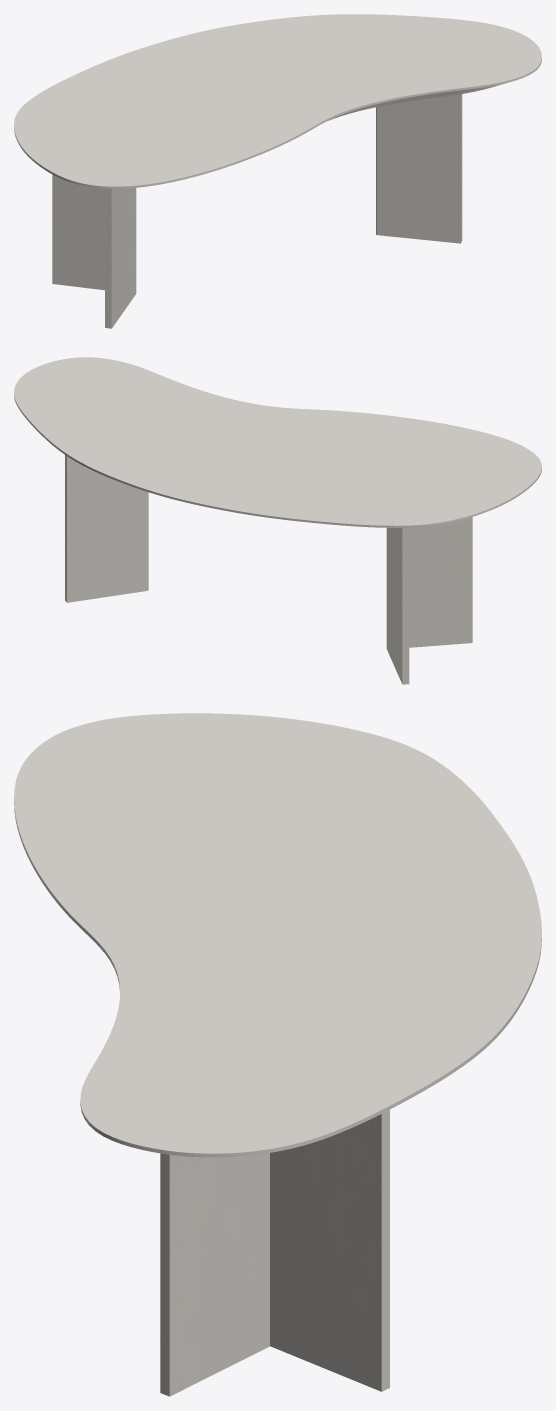
The model's file is pearlwhite_leaf1_facet_valleyv.glb.
3 views of the same model, one above another, from view 1: azimuth 30°, elevation 25°; view 2: azimuth 150°, elevation 25°; view 3: azimuth 270°, elevation 25° (orthographic). The views are drawn at different scales.
Visible parts, largest first — view 1: facet_leaf1, valleyv; view 2: facet_leaf1, valleyv; view 3: facet_leaf1, valleyv.
Part boxes in pixels (x1,y1,x2,y2): facet_leaf1: (14, 14, 541, 188); valleyv: (52, 94, 462, 328); facet_leaf1: (14, 357, 541, 527); valleyv: (65, 455, 472, 684); facet_leaf1: (14, 713, 541, 1157); valleyv: (160, 1109, 389, 1396).
Size of the model in its own units: 7.5 by 2.5 by 3.8.
1 material, 1 textured.
